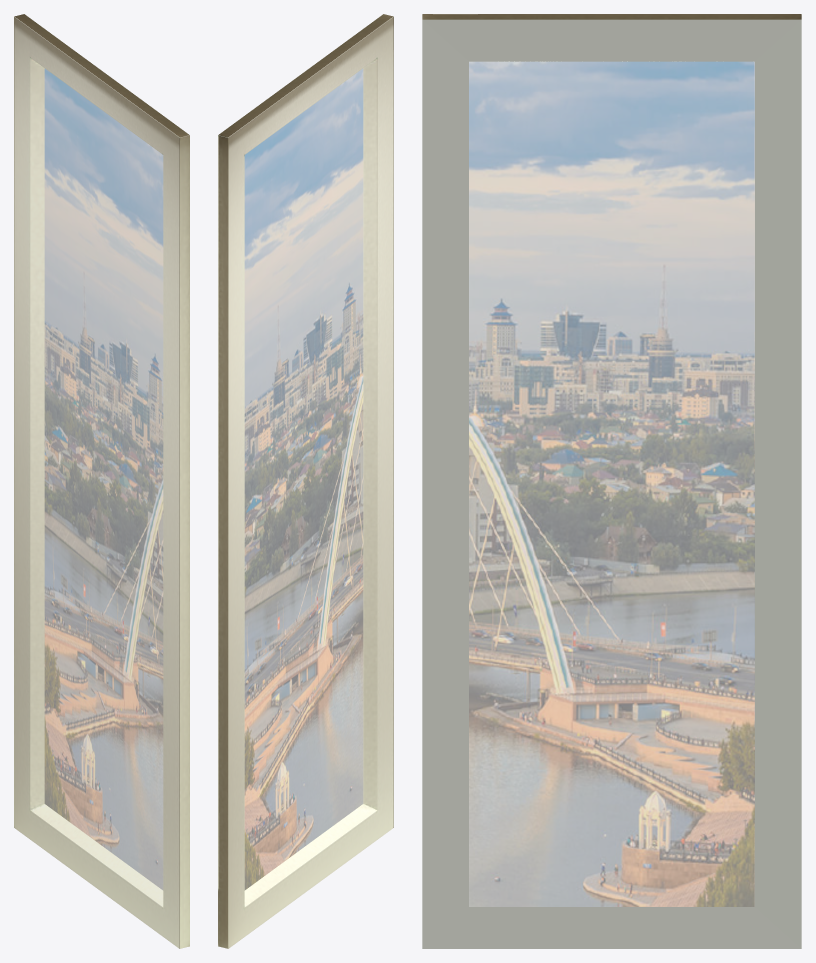
File: STANDARD_WINDOW.glb
The picture shows the model from 3 angles, left to right: view 1: azimuth 30°, elevation 25°; view 2: azimuth 150°, elevation 25°; view 3: azimuth 270°, elevation 25°; orthographic projection. The views are drawn at different scales.
Parts seen in each view (by area): view 1: Cube.190; view 2: Cube.190; view 3: Cube.190.
Part boxes in pixels (x1=…): Cube.190: x1=14, y1=14, x2=189, y2=948; Cube.190: x1=218, y1=14, x2=393, y2=948; Cube.190: x1=422, y1=14, x2=801, y2=948.
Bounding box in the file's own units: 0.0228 × 1.73 × 0.6408.
3 materials, 2 textured.
